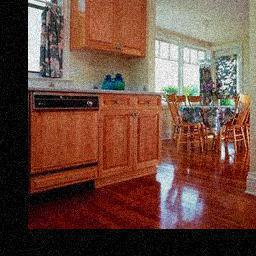Armario: (34, 91, 99, 189)
